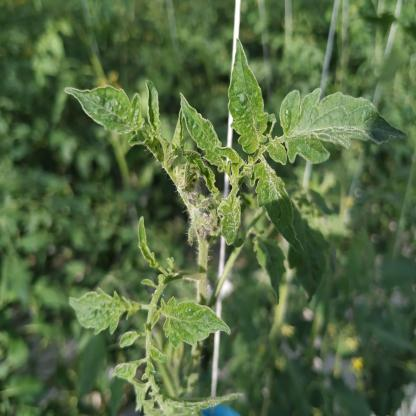T_L_R: (281, 90, 407, 165), (150, 287, 230, 348), (254, 157, 303, 252), (229, 41, 269, 155), (66, 87, 145, 135), (182, 95, 226, 173), (71, 290, 143, 334)
